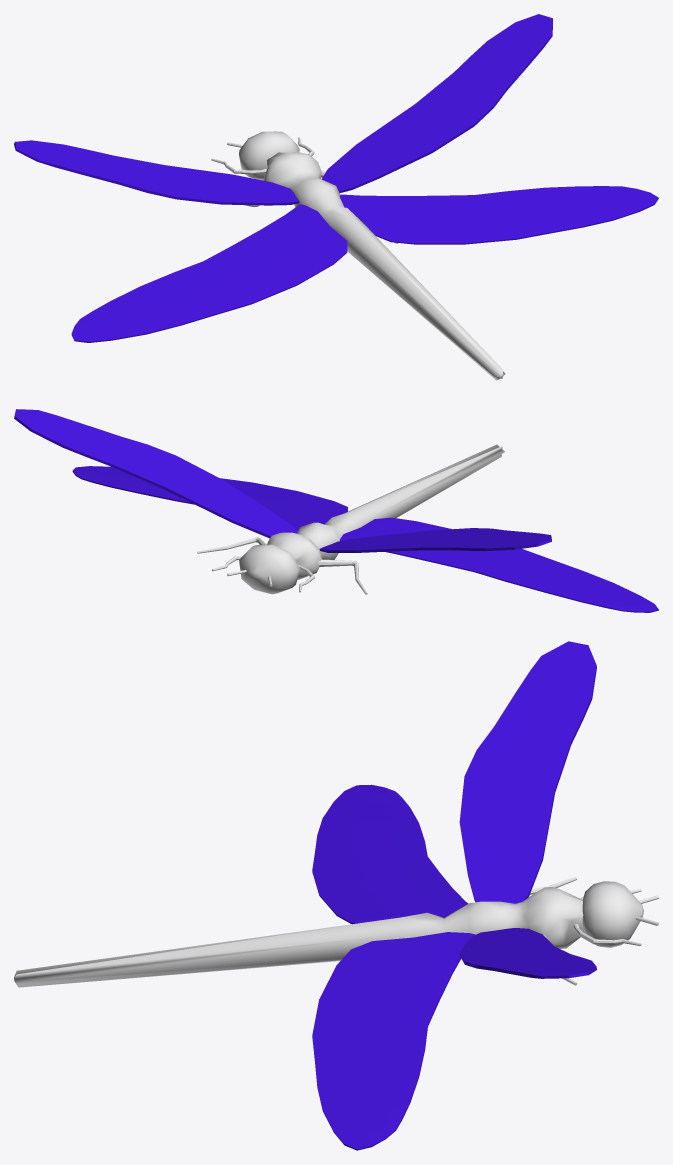
The model's file is dragonfly_last.2_.fbx.
The picture shows the model from 3 angles, top to bottom: view 1: azimuth 30°, elevation 25°; view 2: azimuth 150°, elevation 25°; view 3: azimuth 270°, elevation 25°; orthographic projection. The views are drawn at different scales.
Visible parts, largest first — view 1: body; view 2: body; view 3: body.
Boxes of the visible parts, box(x1,y1,x2,y2) form: body: box(14, 14, 658, 380); body: box(14, 409, 658, 612); body: box(14, 641, 658, 1150).
Size of the model in its own units: 14.58 by 3.31 by 10.91.
